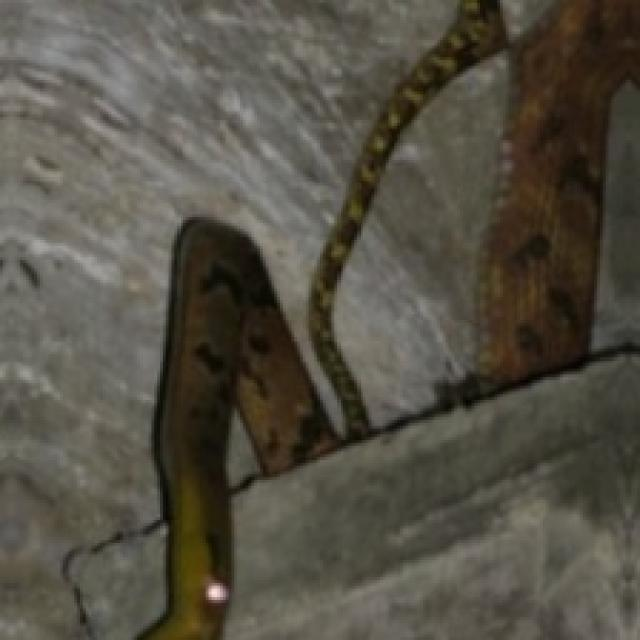dog-toothed cat snake: (309, 0, 506, 434), (137, 217, 334, 637)
